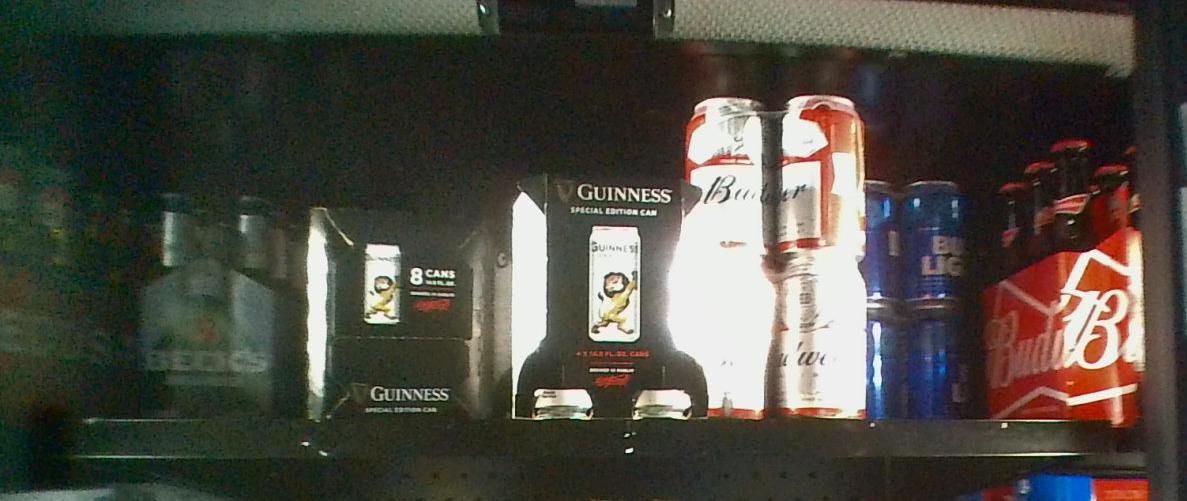bottle: (688, 93, 864, 423), (506, 172, 694, 420), (301, 203, 500, 420), (118, 185, 301, 412), (866, 177, 970, 422)
